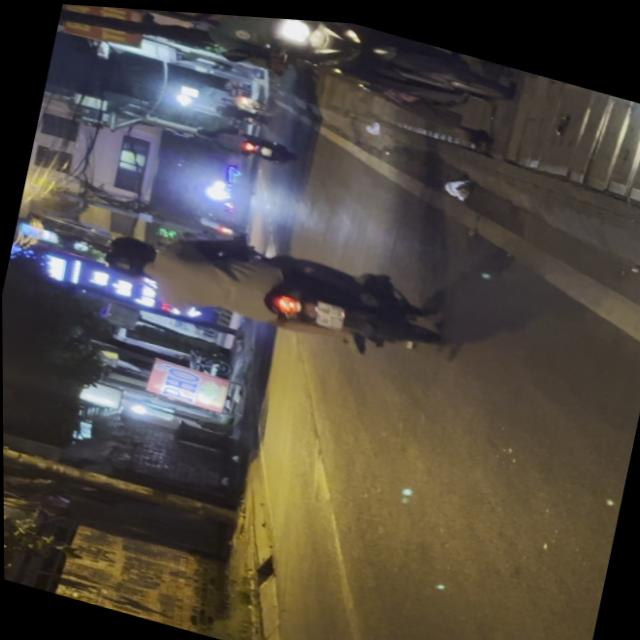helmet: (95, 243, 154, 281), (151, 8, 216, 25)
licenseplate: (88, 195, 450, 375), (137, 7, 518, 145)
motorcyclist: (103, 228, 156, 262)
nohelmet: (310, 296, 342, 327)
